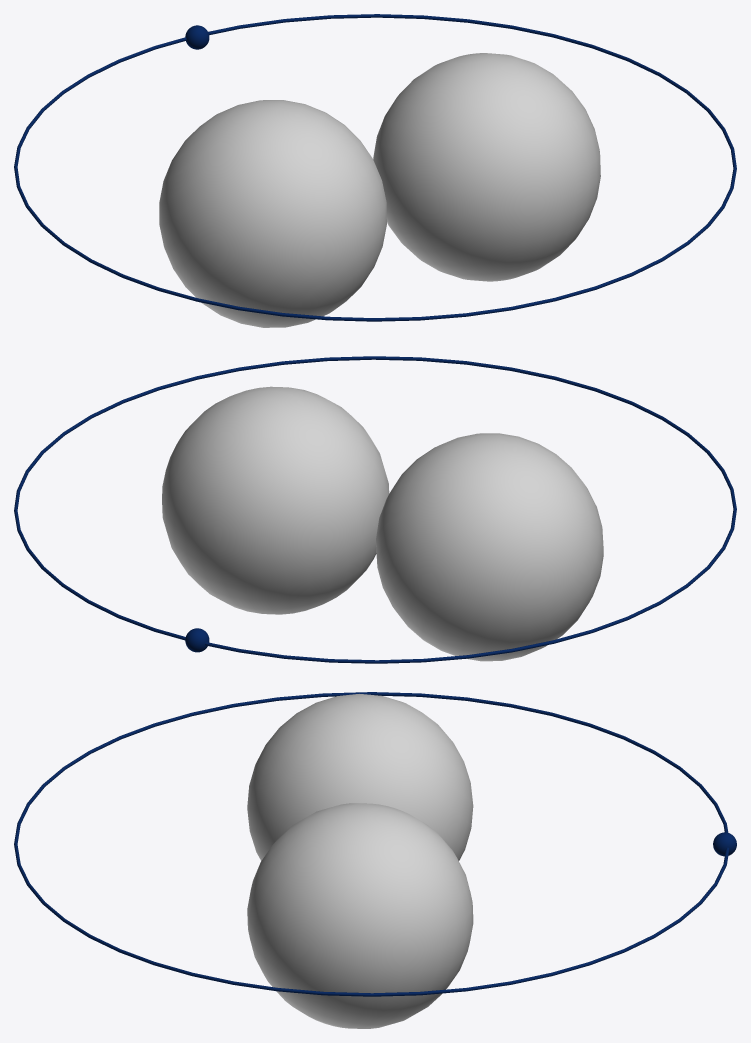
The model's file is DEITERIUM.obj.
3 views of the same model, one above another, from view 1: azimuth 30°, elevation 25°; view 2: azimuth 150°, elevation 25°; view 3: azimuth 270°, elevation 25° (orthographic).
Visible parts, largest first — view 1: Sphere.008, Sphere.004, BézierCircle; view 2: Sphere.004, Sphere.008, BézierCircle; view 3: Sphere.008, Sphere.004, BézierCircle.
Part boxes in pixels (left/top/right/bottom): Sphere.008: left=373, top=53, right=600, bottom=281; Sphere.004: left=159, top=100, right=386, bottom=327; BézierCircle: left=14, top=14, right=736, bottom=321; Sphere.004: left=376, top=433, right=603, bottom=661; Sphere.008: left=162, top=386, right=389, bottom=614; BézierCircle: left=14, top=356, right=736, bottom=663; Sphere.008: left=247, top=803, right=473, bottom=1028; Sphere.004: left=247, top=694, right=473, bottom=860; BézierCircle: left=14, top=692, right=729, bottom=996.
Size of the model in its own units: 48.54 by 15.76 by 49.
